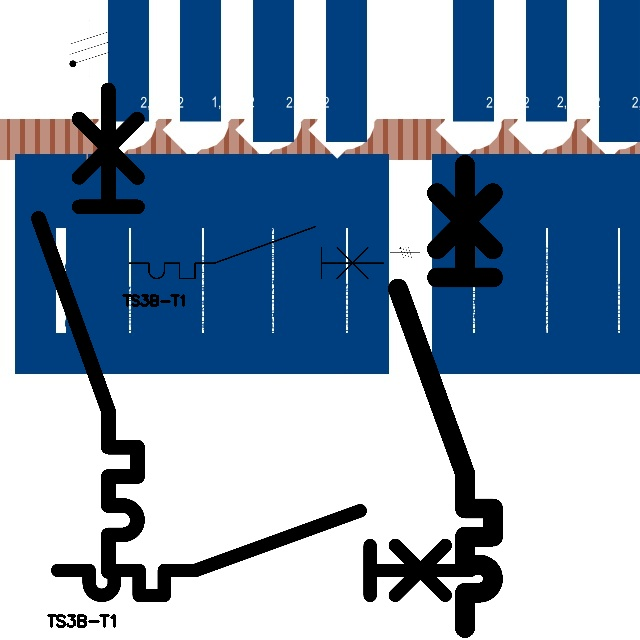interruptor_termomagnetico: (26, 77, 150, 584), (386, 153, 505, 640), (47, 500, 481, 606), (123, 220, 390, 285)
